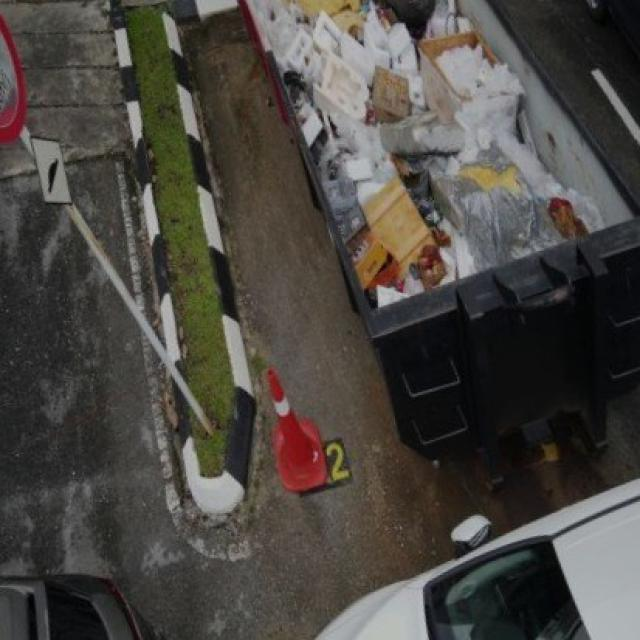Legalparking: (241, 0, 638, 451), (347, 530, 640, 640)
